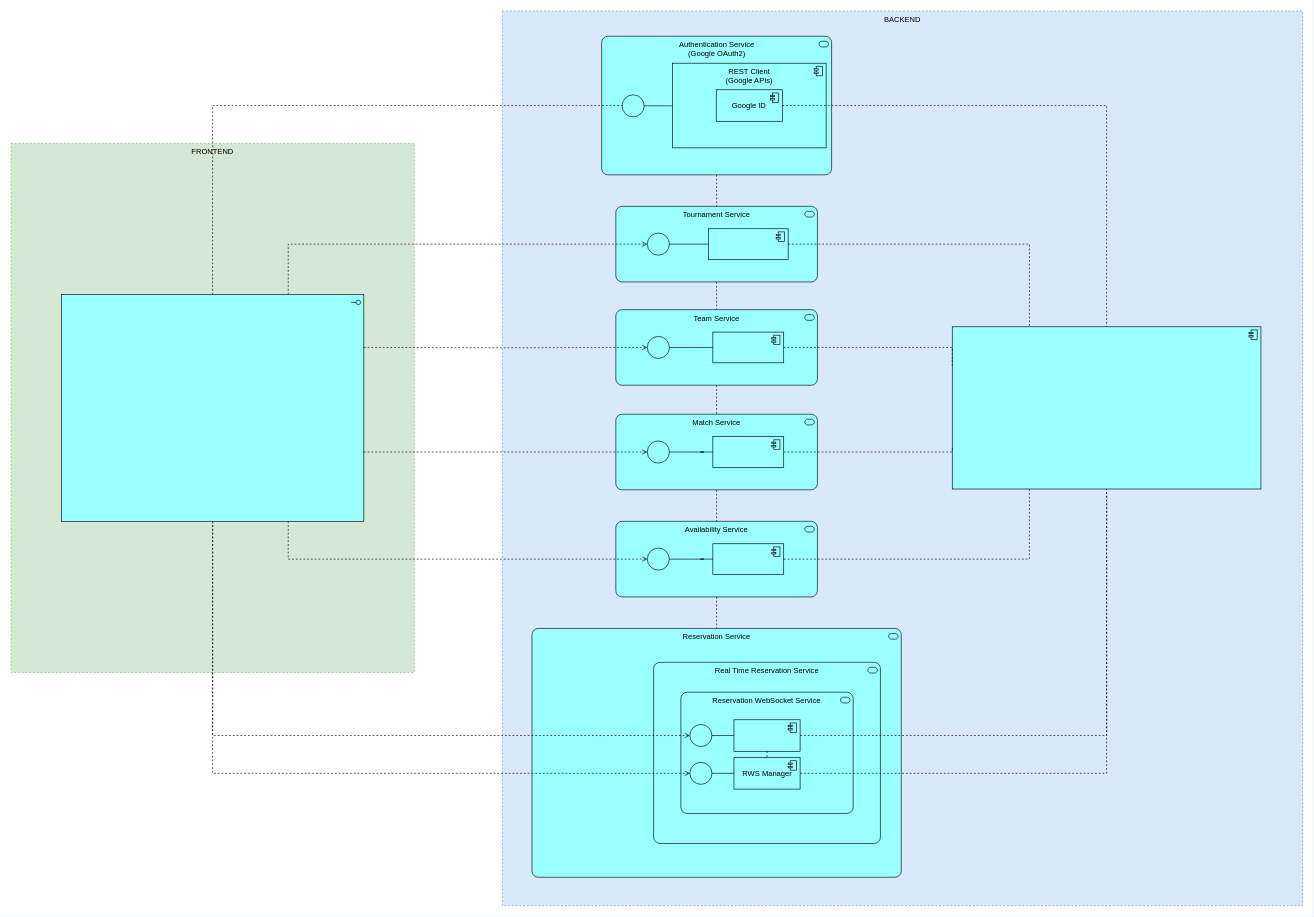
Image size: 1314x917. Some labels were removed from this diagram. Here are the shapes that lost their labels. From the top down, the centre of each, then its label:
the point at 748,243: Tournament-Manager
the point at 748,347: Team-Manager
the point at 212,407: Web Application
the point at 1106,407: PostgreSQL - DB
the point at 748,451: Match-Manager
the point at 748,558: Availability-Manager
the point at 766,735: Reservation Manager
